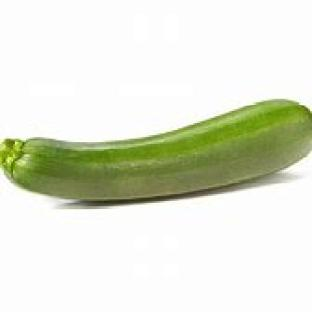Zucchini: (0, 101, 311, 201)
